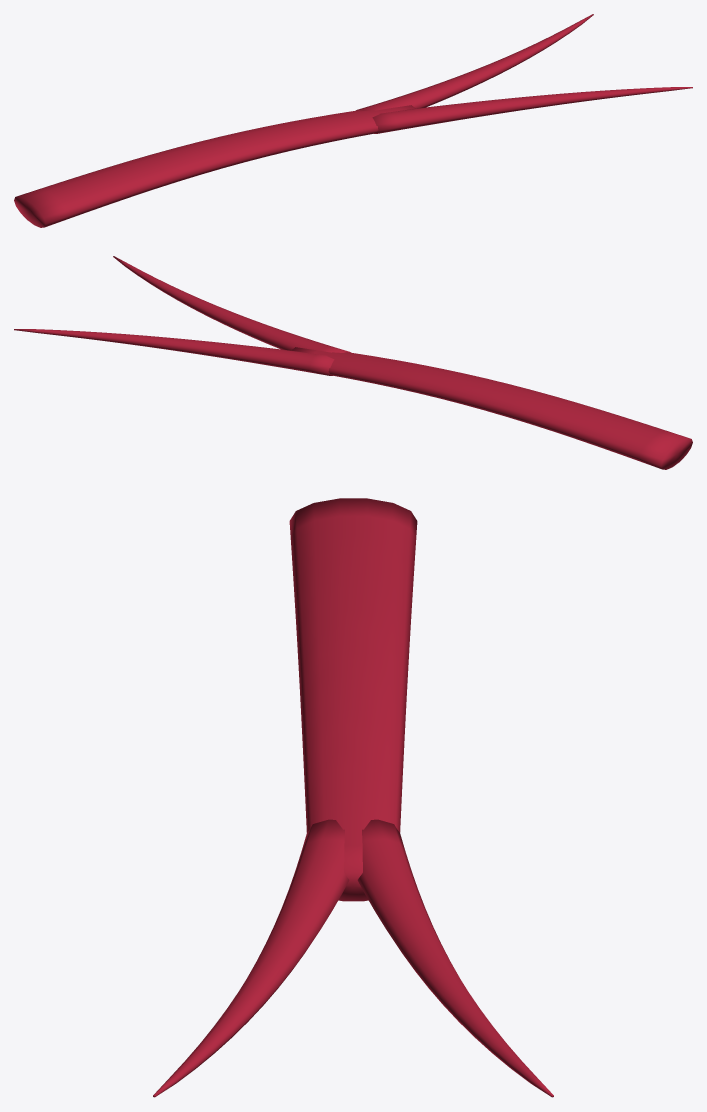
File: SM_SnakeTongue.glb
3 views of the same model, one above another, from view 1: azimuth 30°, elevation 25°; view 2: azimuth 150°, elevation 25°; view 3: azimuth 270°, elevation 25° (orthographic). The views are drawn at different scales.
Parts seen in each view (by area): view 1: SM_SnakeTongue; view 2: SM_SnakeTongue; view 3: SM_SnakeTongue.
Boxes of the visible parts, x1,y1,x2,y2 form: SM_SnakeTongue: (14, 14, 692, 227); SM_SnakeTongue: (14, 256, 692, 469); SM_SnakeTongue: (153, 498, 553, 1097).
Size of the model in its own units: 0.5771 by 0.0299 by 0.1632.
